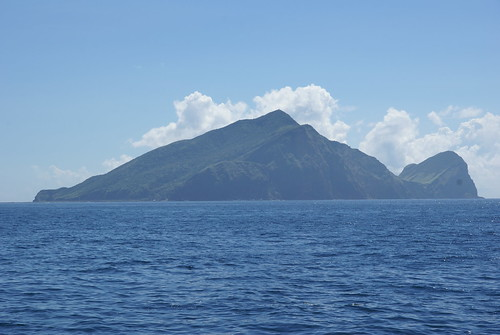turtleIsland: (35, 111, 480, 200)
